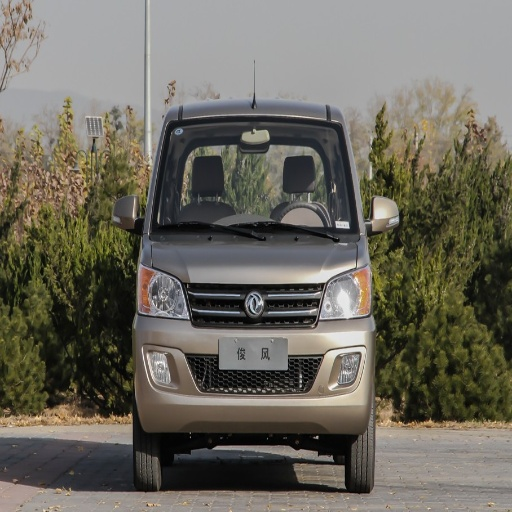front_bumper: (133, 283, 372, 433)
front_right_light: (139, 265, 188, 318)
hood: (148, 230, 357, 285)
left_mirror: (368, 197, 401, 236)
